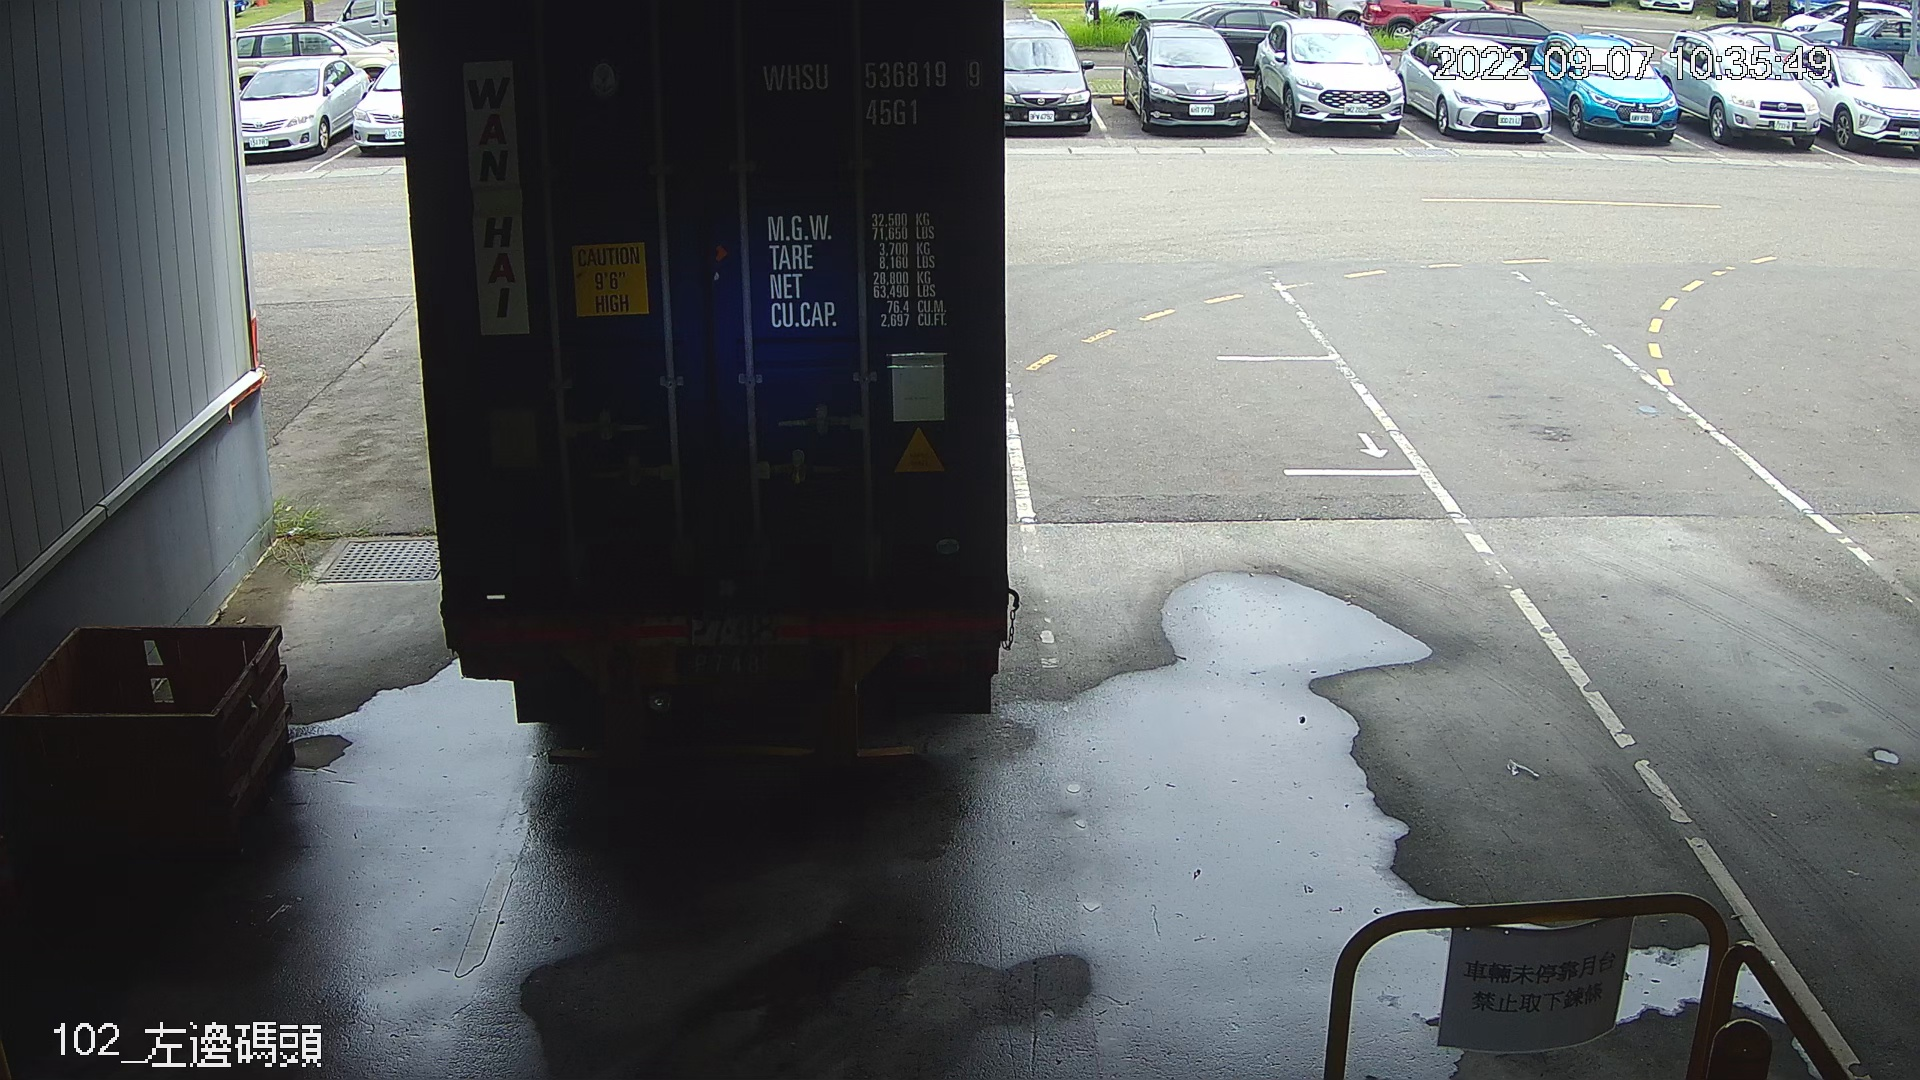container: (756, 49, 989, 135)
